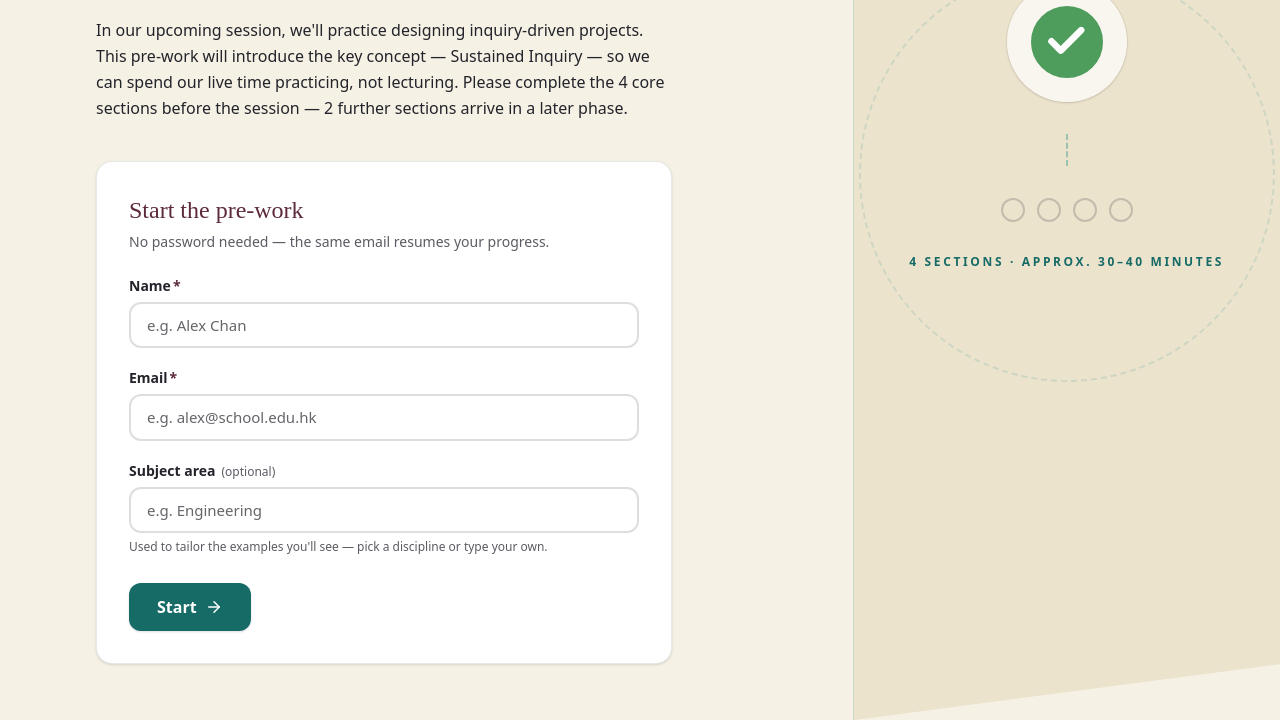
Test case: Landing › blocks submit with inline errors when name and email are empty
(page scrolled)
Click the button "Start". click: (190, 607)
box: [129,583,251,631]
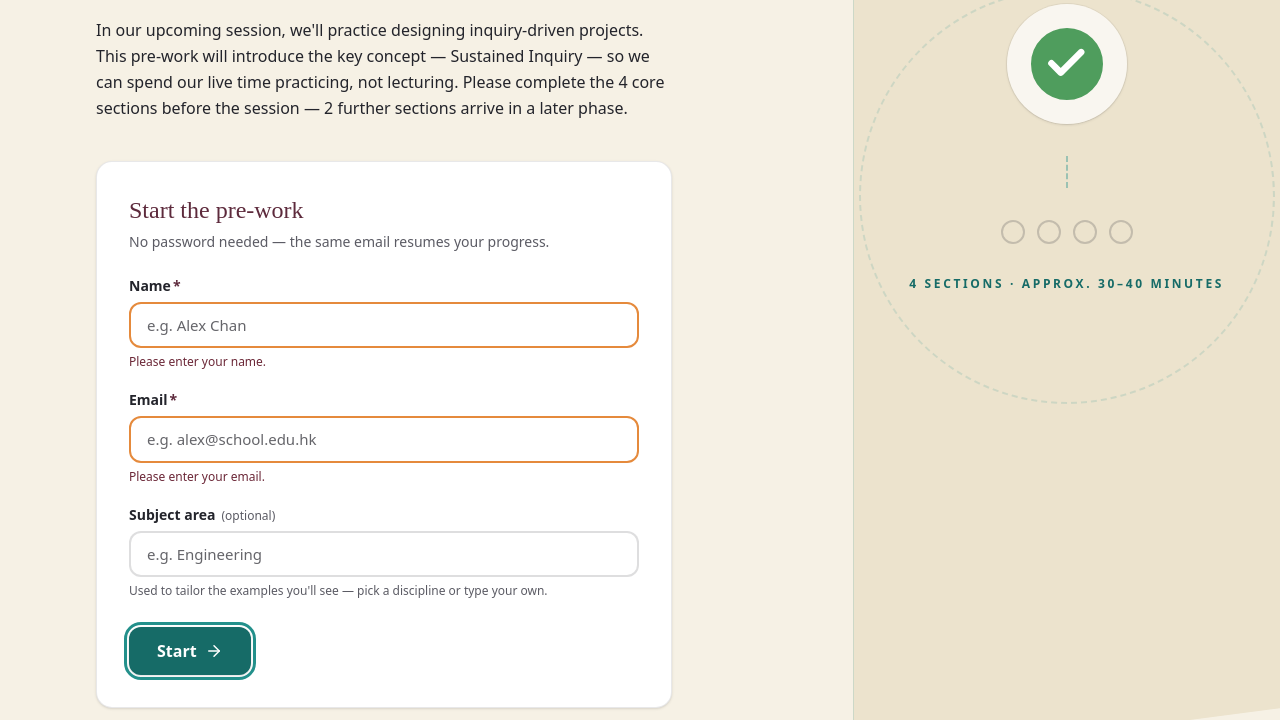
Result: the text "Please enter your name." is shown at [129,353,266,370]
Result: the text "Please enter your email." is shown at [129,468,265,485]
